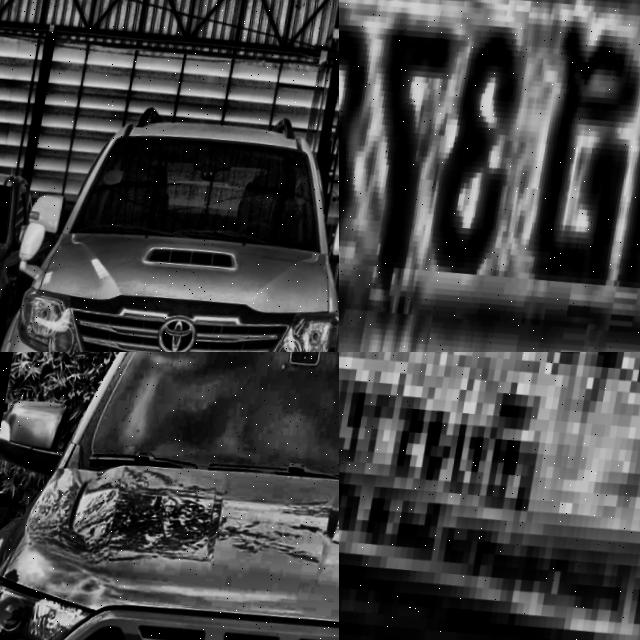license-plate: (339, 0, 640, 352), (339, 352, 640, 640)
